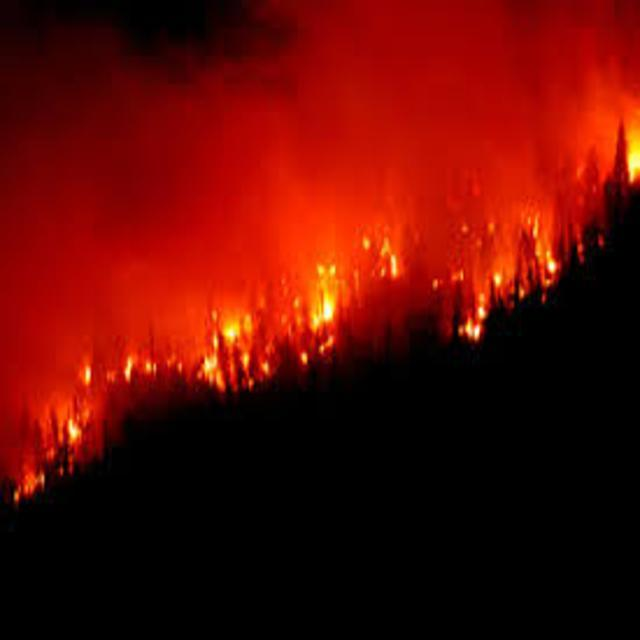Fire: (164, 254, 420, 396), (352, 206, 570, 344), (2, 350, 194, 506), (595, 92, 640, 198)
Smoke: (2, 0, 352, 256), (356, 2, 585, 205), (2, 256, 162, 355), (587, 0, 640, 89)
